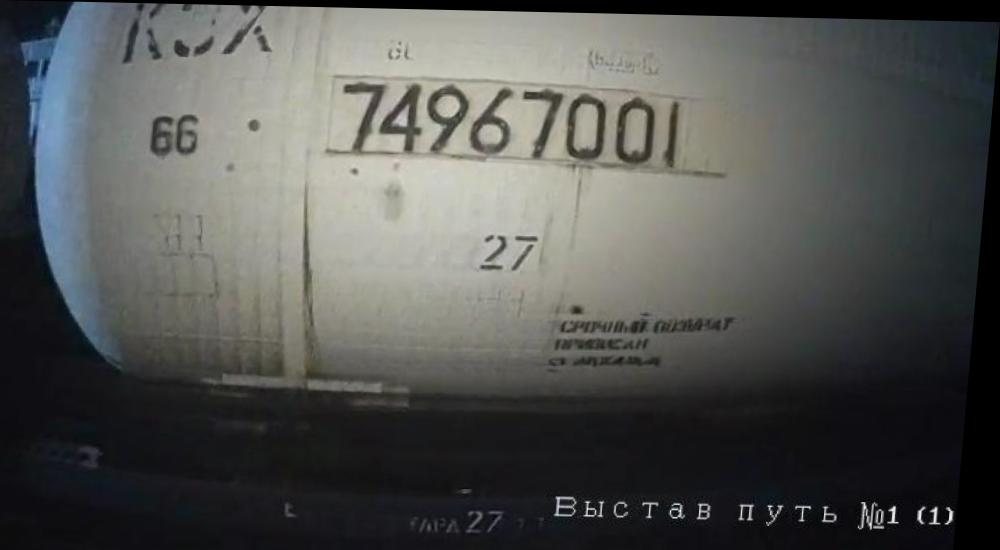Wagon-number: (334, 77, 694, 168)
